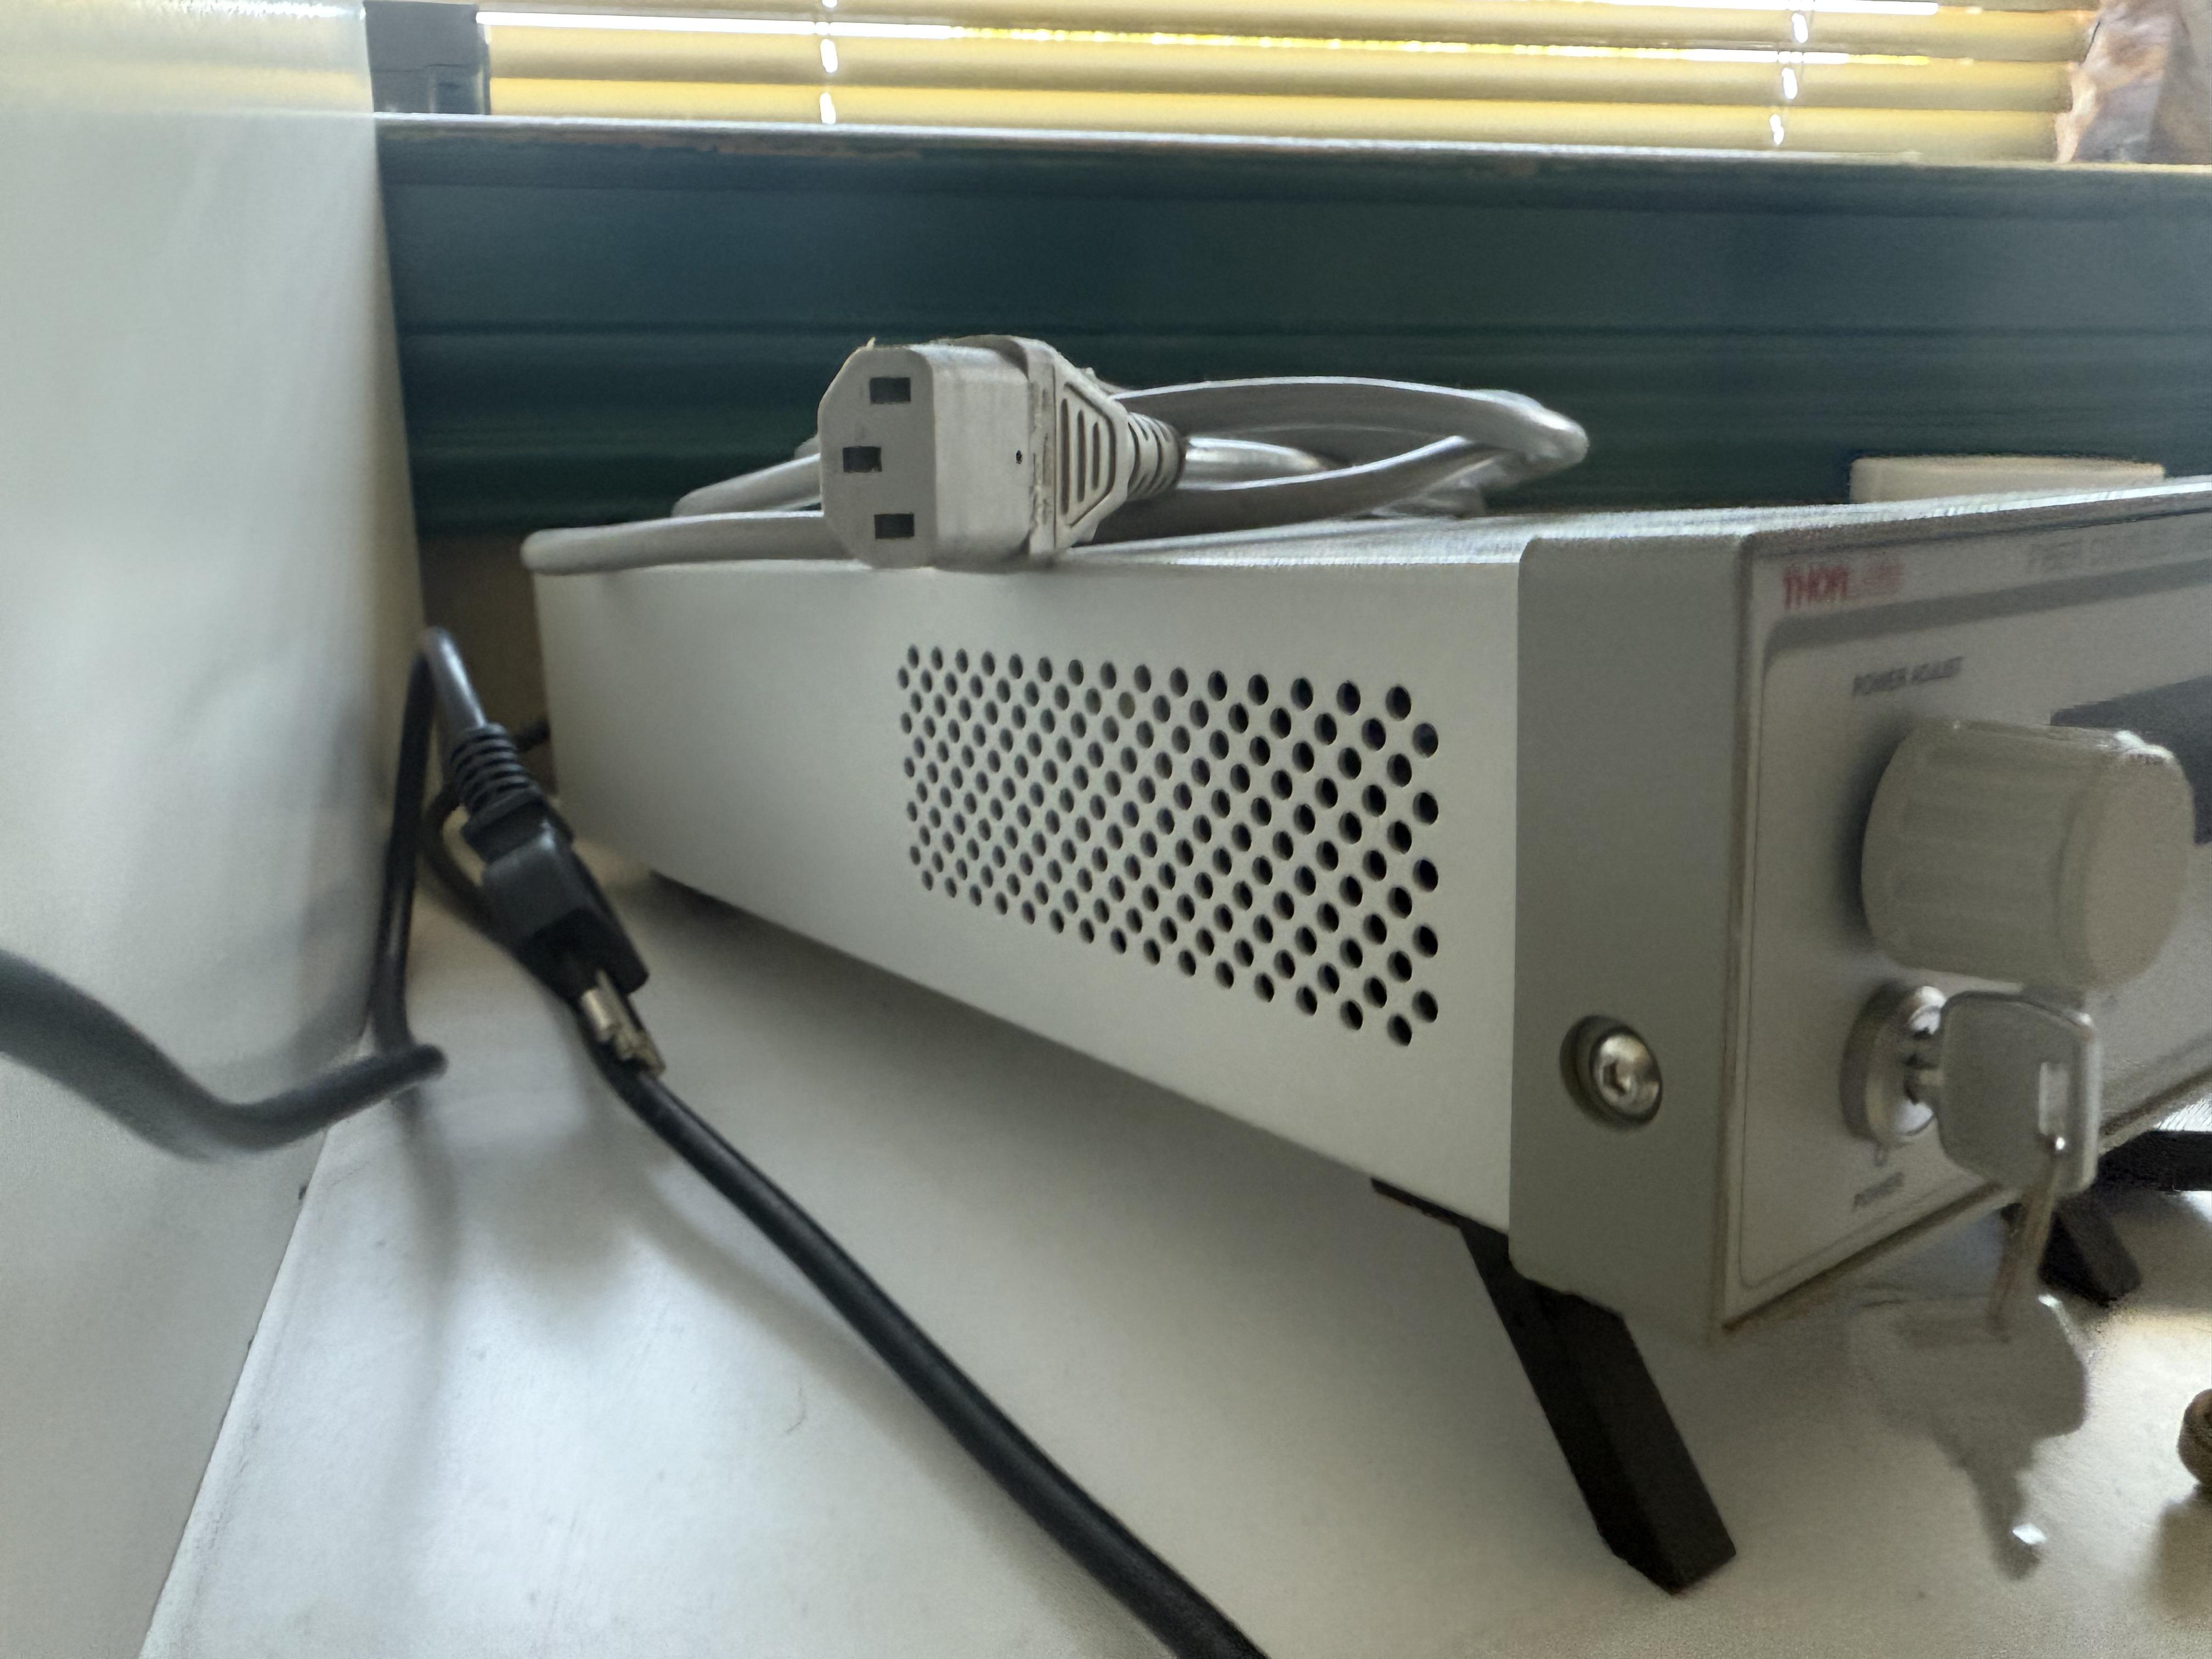laser: (500, 422, 2212, 1408)
